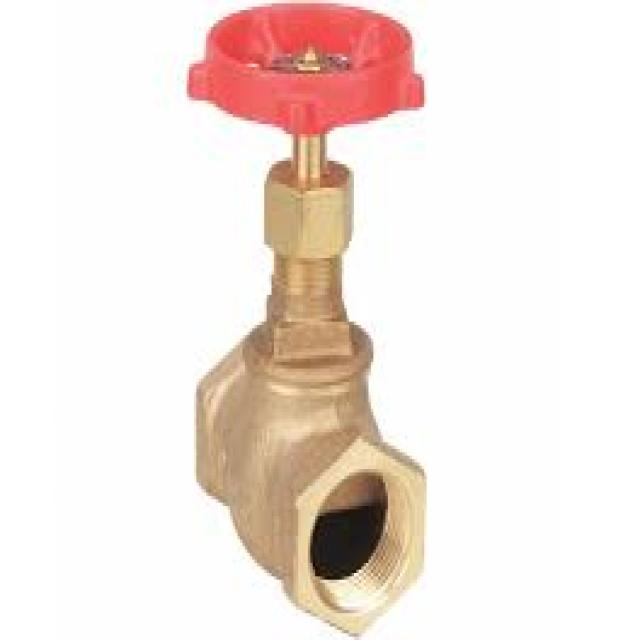Wheel Handle Valve Threaded: (171, 0, 449, 640)
